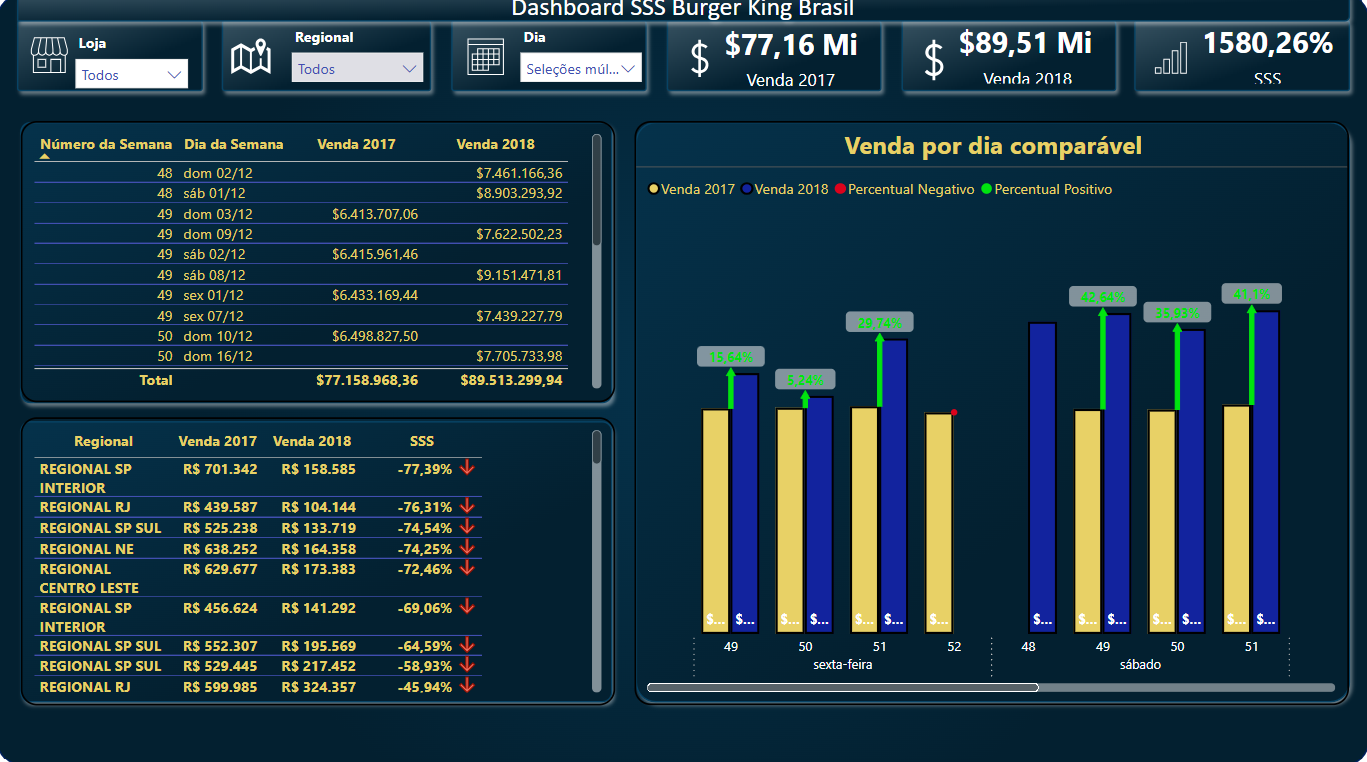

Layout of this report page (visuals, bound fields, positions):
{"tool":"powerbi","page":{"name":"Página 1","canvas":[1280,720],"ordinal":0},"visuals":[{"type":"lineClusteredColumnComboChart","title":"Venda por dia comparável","fields":{"Y":["Sum(B 2017.Venda 2017)","Sum(B 2018.Venda 2018)"],"Category":["Calendario.Dia da Semana","Calendario.Número da Semana"],"Y2":["Medida.Maior_Valor_Seta","Medida.Menor_Valor_2017_2018"]},"box":[595.1,116.6,666.3,544.8],"z":0},{"type":"slicer","fields":{"Values":["Base de dados.Loja"]},"box":[63.1,28.8,124.9,60.4],"z":1000},{"type":"slicer","fields":{"Values":["Calendario.Dia da Semana"]},"box":[477.5,23.3,133.1,63.1],"z":2000},{"type":"tableEx","fields":{"Values":["Base de dados.Regional","Sum(SSS.Venda 2017)","Sum(SSS.Venda 2018)","SSS.Crescimento Percentual"]},"box":[22,392.5,554.4,269],"z":3000},{"type":"tableEx","fields":{"Values":["Calendario.Número da Semana","Calendario.Dia da Semana Dia/Mês","Sum(B 2017.Venda 2017)","Sum(B 2018.Venda 2018)"]},"box":[22,116.6,554.4,262.1],"z":4000},{"type":"card","fields":{"Values":["Sum(SSS.Crescimento Percentual)"]},"box":[1110.1,23.3,150.9,63.1],"z":5000},{"type":"card","fields":{"Values":["Sum(B 2017.Venda 2017)"]},"box":[661.4,23.3,159.2,65.9],"z":6000},{"type":"card","fields":{"Values":["Sum(B 2018.Venda 2018)"]},"box":[875.5,23.3,167.4,63.1],"z":7000},{"type":"slicer","fields":{"Values":["SSS.Regional"]},"box":[264.8,23.3,142.7,70],"z":8000}]}

Visuals, with their boxes in screenshot pixels (x1, y1, x2, y2), scaled from the page's 1280x720 canvas onto the 1367x762 screenshot:
"Venda por dia comparável" lineClusteredColumnComboChart: left=636, top=123, right=1347, bottom=700
slicer - Base de dados.Loja: left=67, top=30, right=201, bottom=94
slicer - Calendario.Dia da Semana: left=510, top=25, right=652, bottom=91
tableEx - Base de dados.Regional x Sum(SSS.Venda 2017): left=23, top=415, right=616, bottom=700
tableEx - Calendario.Número da Semana x Calendario.Dia da Semana Dia/Mês: left=23, top=123, right=616, bottom=401
card - Sum(SSS.Crescimento Percentual): left=1186, top=25, right=1347, bottom=91
card - Sum(B 2017.Venda 2017): left=706, top=25, right=876, bottom=94
card - Sum(B 2018.Venda 2018): left=935, top=25, right=1114, bottom=91
slicer - SSS.Regional: left=283, top=25, right=435, bottom=99
